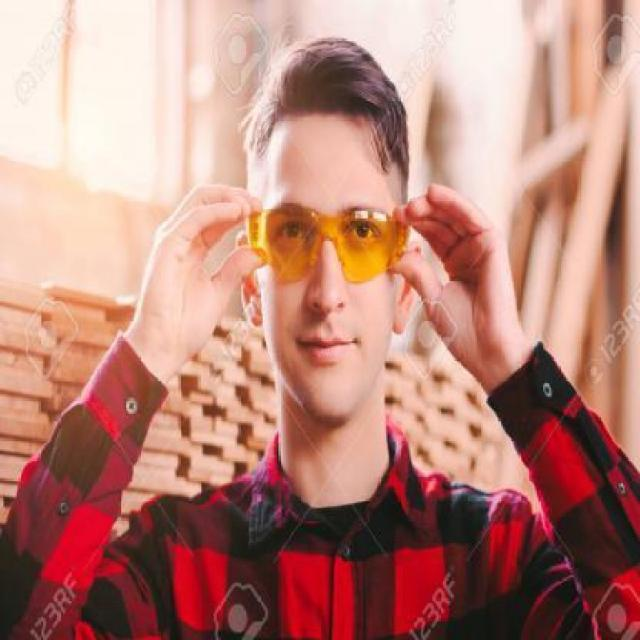Goggles: (225, 196, 418, 293)
